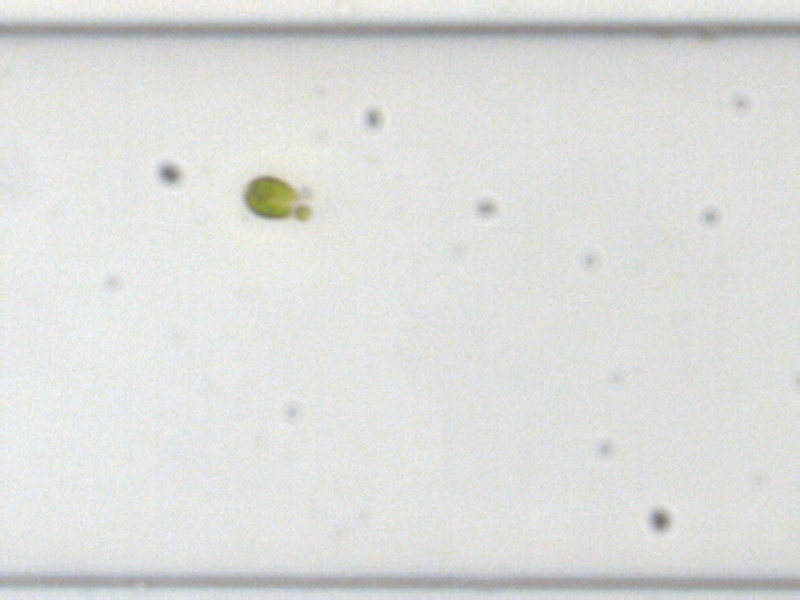Chlorella: (293, 203, 312, 222)
Platymonas: (238, 174, 297, 219)
